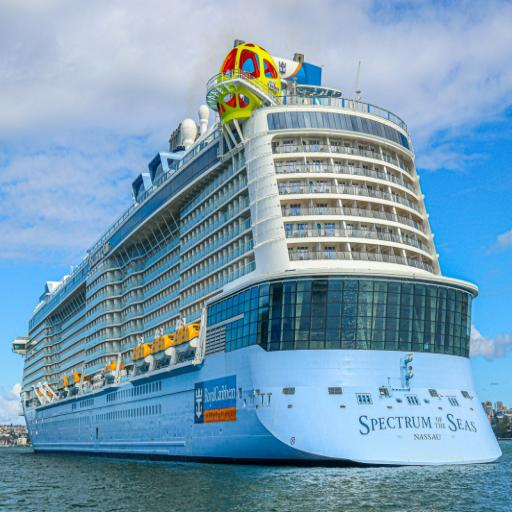cruises: (10, 36, 504, 475)
